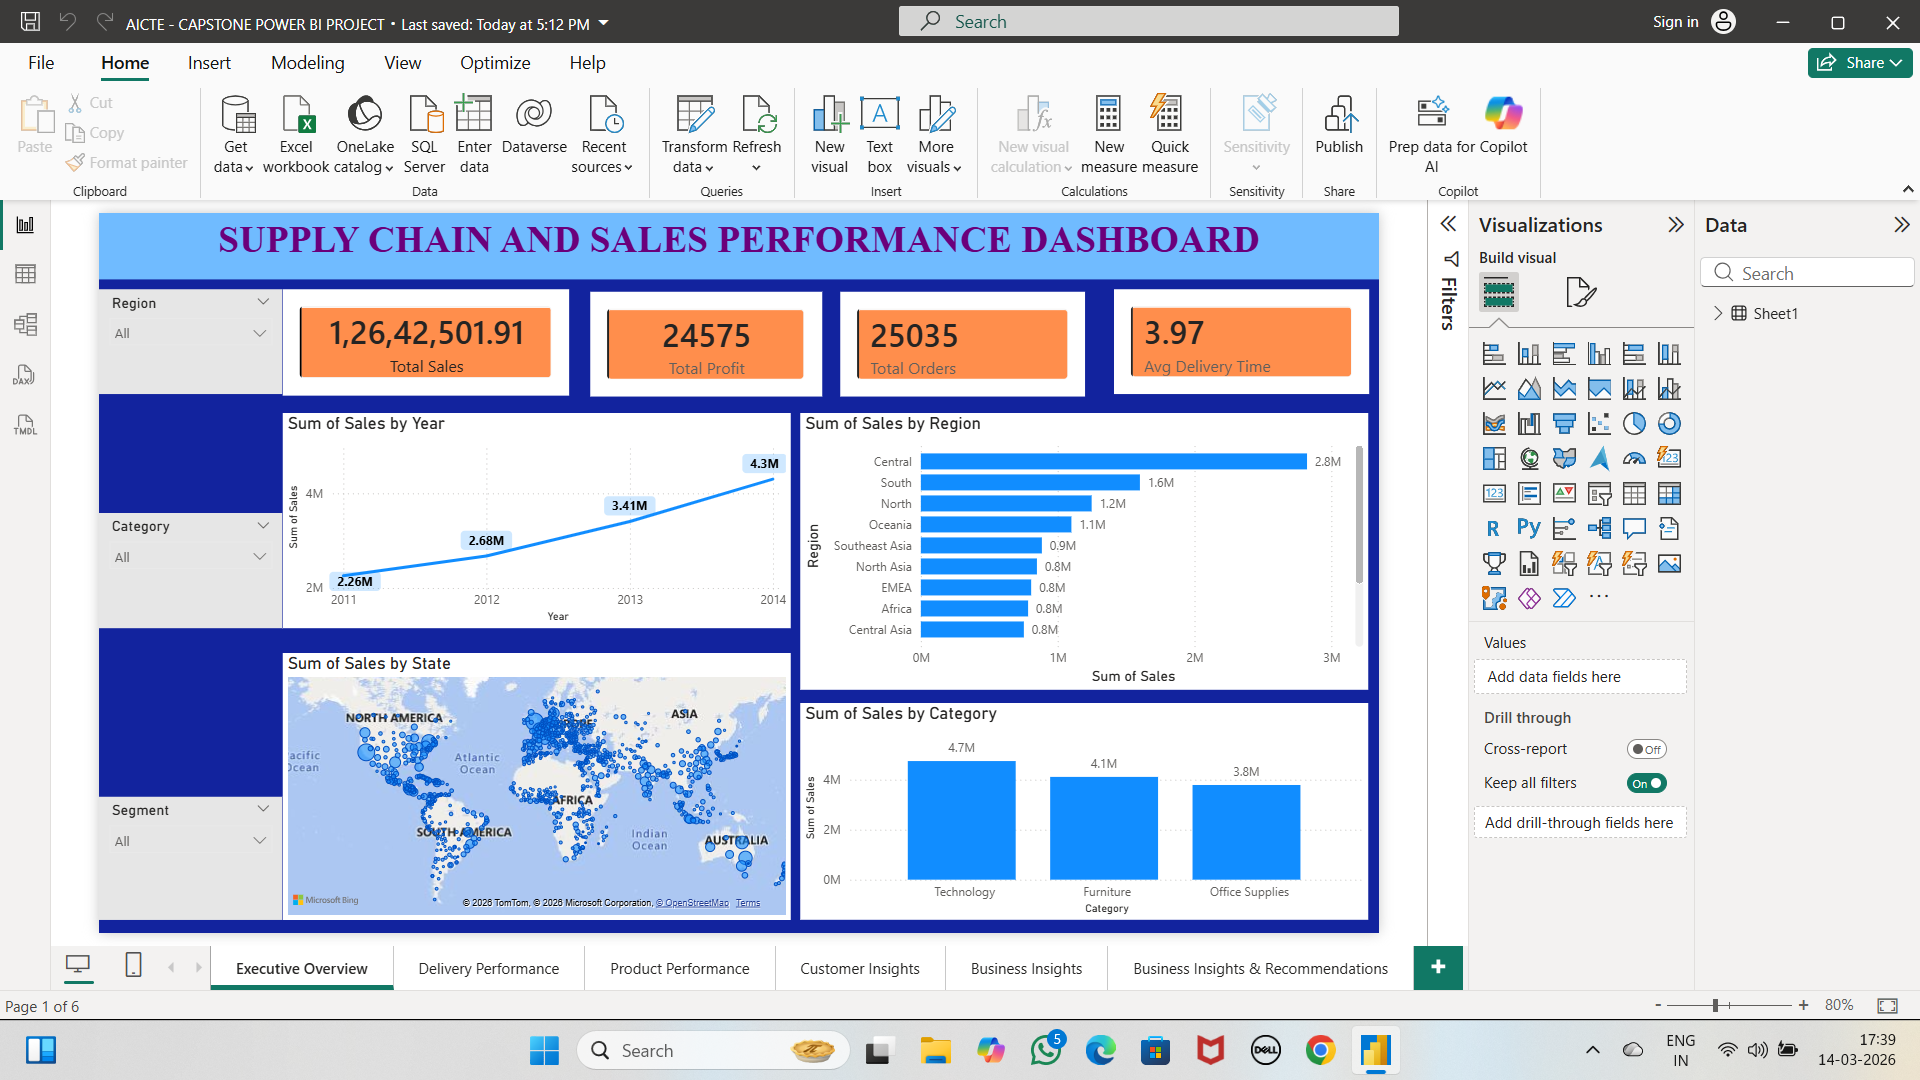

This screenshot's page, from the dashboard's own definition file:
{"tool":"powerbi","page":{"name":"Executive Overview ","canvas":[1280,720],"ordinal":0},"visuals":[{"type":"textbox","box":[0,0,1280,66.7],"z":0},{"type":"cardVisual","fields":{"Data":["Sheet1.Total Sales"]},"box":[183.3,76.7,286.7,106.7],"z":1000},{"type":"cardVisual","fields":{"Data":["Sheet1.Total Profit"]},"box":[491.7,78.3,231.7,105],"z":2000},{"type":"cardVisual","fields":{"Data":["Sheet1.Total Orders"]},"box":[741.7,78.3,245,105],"z":3000},{"type":"cardVisual","fields":{"Data":["Sheet1.Avg Delivery Time"]},"box":[1015,76.7,255,105],"z":4000},{"type":"lineChart","fields":{"Category":["Sheet1.Order Date.Variation.Date Hierarchy.Year","Sheet1.Order Date.Variation.Date Hierarchy.Quarter","Sheet1.Order Date.Variation.Date Hierarchy.Month","Sheet1.Order Date.Variation.Date Hierarchy.Day"],"Y":["Sum(Sheet1.Sales)"]},"box":[183.3,200,508.3,215],"z":5000},{"type":"clusteredBarChart","fields":{"Category":["Sheet1.Region"],"Y":["Sum(Sheet1.Sales)"]},"box":[701.7,200,568.3,276.7],"z":6000},{"type":"columnChart","fields":{"Category":["Sheet1.Category"],"Y":["Sum(Sheet1.Sales)"]},"box":[701.7,490,568.3,216.7],"z":7000},{"type":"slicer","fields":{"Values":["Sheet1.Region"]},"box":[0,76.7,183.3,105],"z":8000},{"type":"slicer","fields":{"Values":["Sheet1.Category"]},"box":[0,300,183.3,115],"z":9000},{"type":"slicer","fields":{"Values":["Sheet1.Segment"]},"box":[0,583.3,183.3,123.3],"z":10000},{"type":"map","fields":{"Size":["Sum(Sheet1.Sales)"],"Category":["Sheet1.State"]},"box":[183.9,440.5,507.7,266.2],"z":10001}]}

Visuals, with their boxes on the page's 1280x720 design canvas (x1, y1, x2, y2). These are canvas units, not pixel positions in the 1920x1080 screenshot, which may show the page scaled, cropped or inside an application window:
textbox: (0,0,1280,67)
cardVisual - Sheet1.Total Sales: (183,77,470,183)
cardVisual - Sheet1.Total Profit: (492,78,723,183)
cardVisual - Sheet1.Total Orders: (742,78,987,183)
cardVisual - Sheet1.Avg Delivery Time: (1015,77,1270,182)
lineChart - Sheet1.Order Date.Variation.Date Hierarchy.Year x Sheet1.Order Date.Variation.Date Hierarchy.Quarter: (183,200,692,415)
clusteredBarChart - Sheet1.Region x Sum(Sheet1.Sales): (702,200,1270,477)
columnChart - Sheet1.Category x Sum(Sheet1.Sales): (702,490,1270,707)
slicer - Sheet1.Region: (0,77,183,182)
slicer - Sheet1.Category: (0,300,183,415)
slicer - Sheet1.Segment: (0,583,183,707)
map - Sum(Sheet1.Sales) x Sheet1.State: (184,440,692,707)
